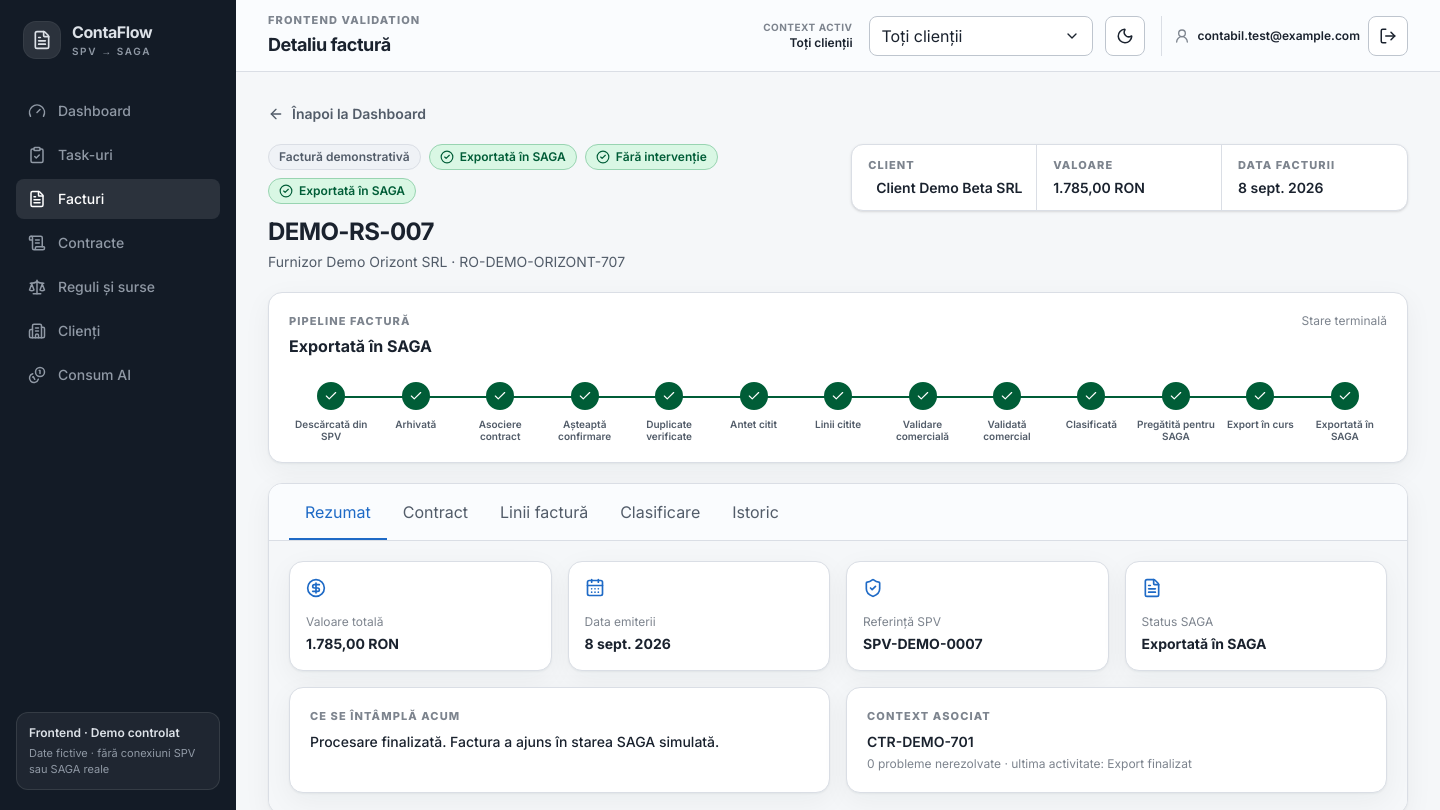
Test case: Invoice Detail workspace › keeps all approved tabs and shows matched contract details
Check: the tab "Rezumat" is shown, box [289, 484, 387, 540]
Check: the tab "Linii factură" is shown, box [484, 484, 604, 540]
Click the tab "Contract": (435, 512) [387, 484, 484, 540]
(page scrolled)
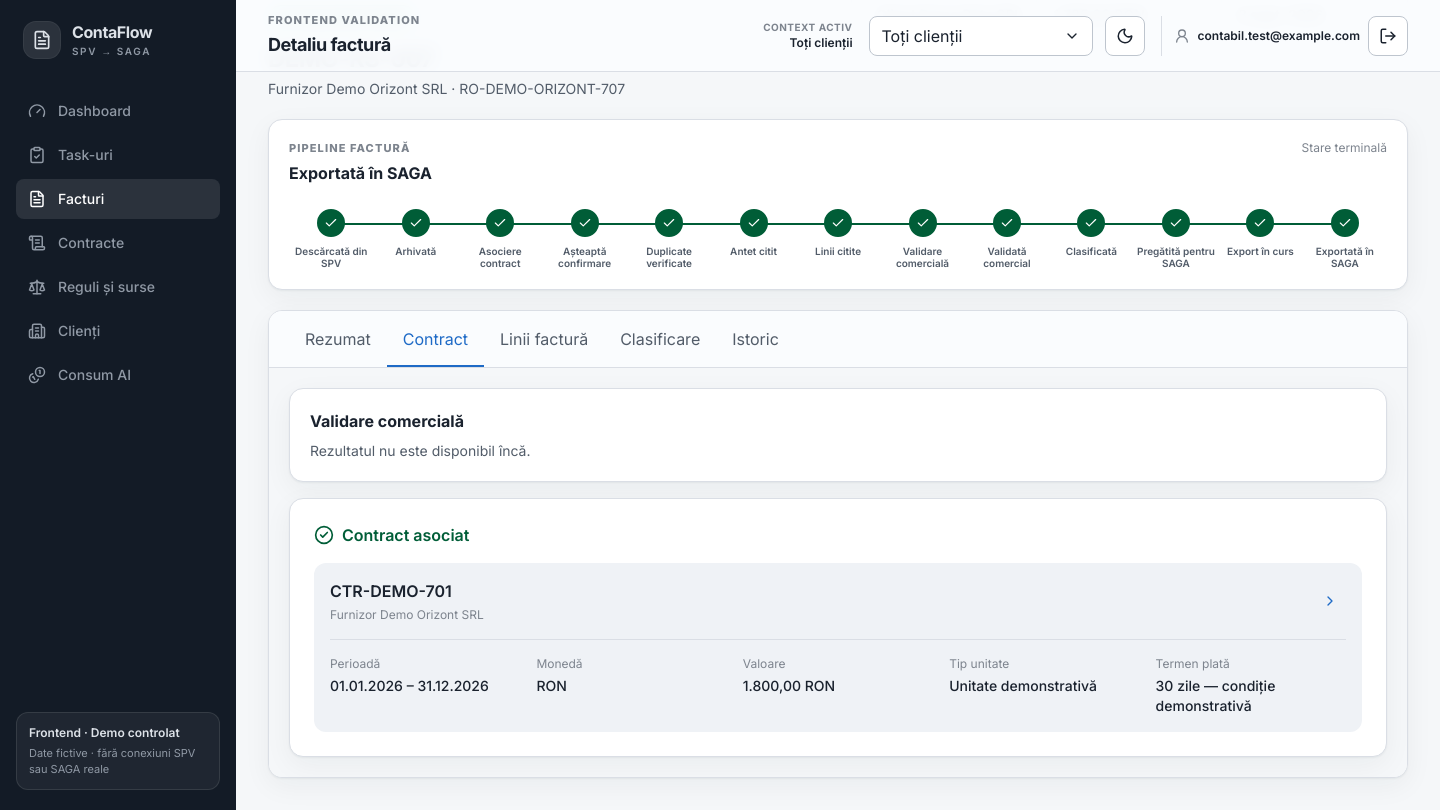
Check: the text "CTR-DEMO-701" is shown, box [330, 580, 452, 600]
Check: the text "Tip unitate" is shown, box [949, 656, 1009, 670]
Check: the text "Termen plată" is shown, box [1156, 656, 1230, 670]
